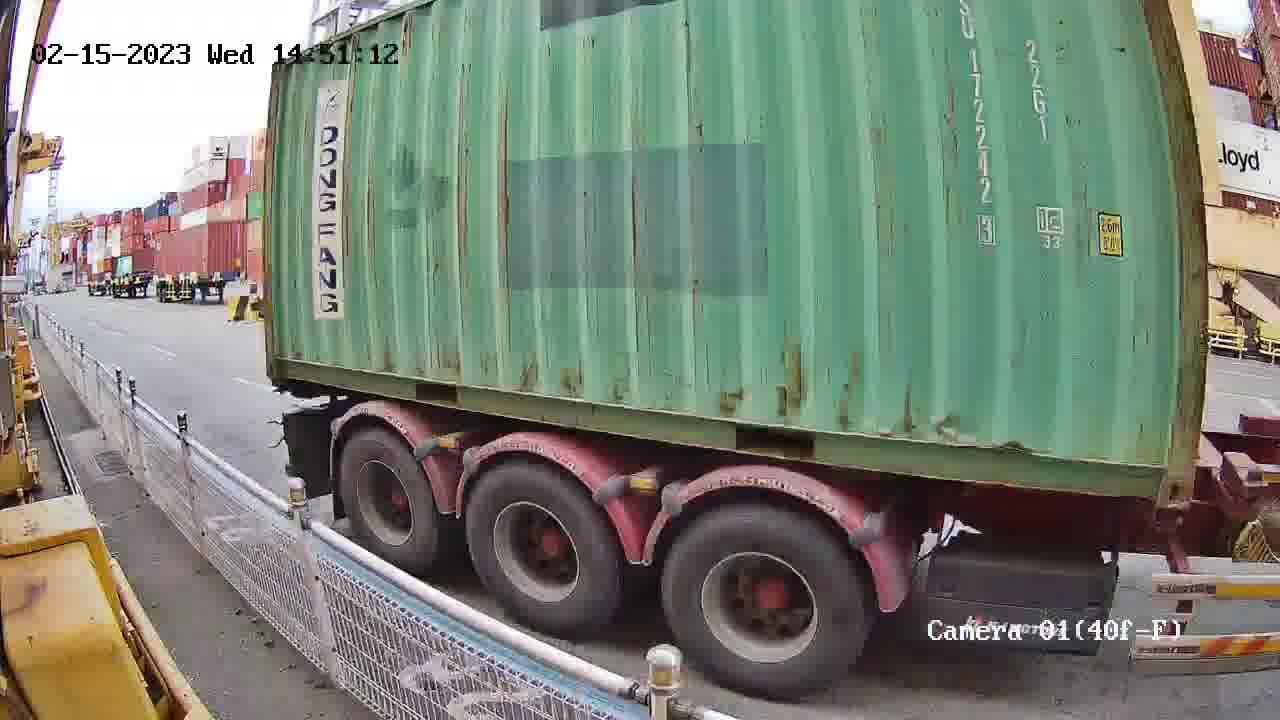Cone: (1152, 506, 1184, 534)
Hole_L: (264, 340, 302, 382)
Hole_R: (1121, 438, 1197, 507)
Tire: (662, 503, 862, 693), (465, 464, 617, 632), (336, 428, 436, 564)
